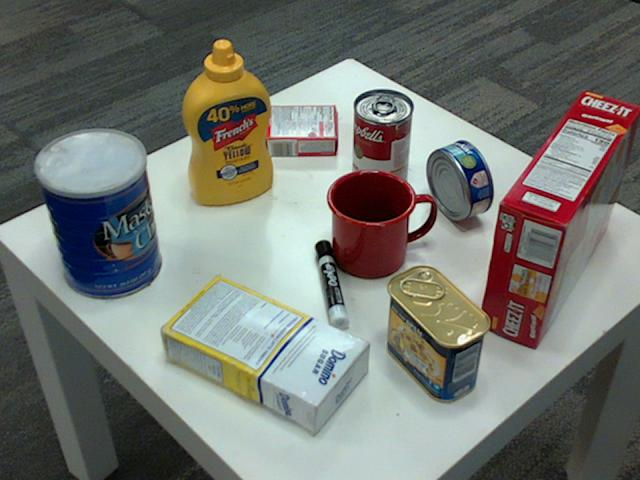cracker_box: (477, 89, 639, 346)
gelatin_box: (266, 102, 339, 154)
large_marker: (314, 241, 348, 334)
master_chef_can: (32, 129, 159, 300)
mug: (325, 167, 432, 275)
mustard_bottle: (181, 40, 273, 204)
potted_meat_can: (383, 265, 491, 402)
sugar_box: (155, 272, 366, 430)
tomato_soup_can: (351, 89, 412, 194)
tuna_fish_can: (425, 139, 491, 220)
